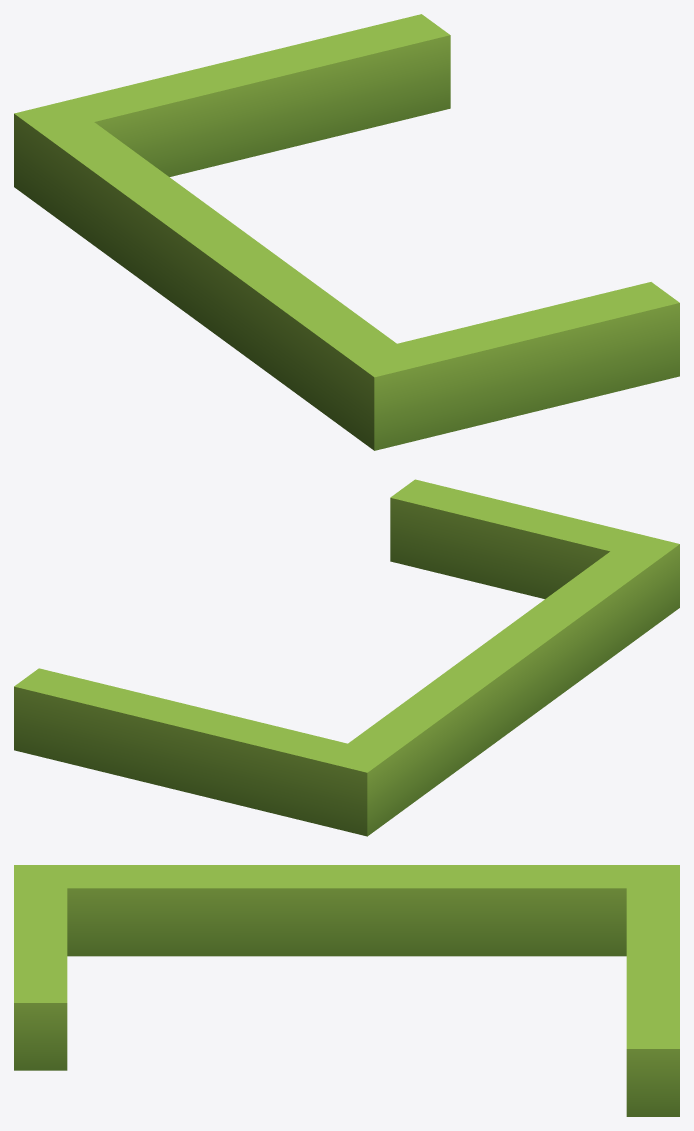
Rendered from grass 14.fbx.
3 renders of one model, top to bottom at view 1: azimuth 30°, elevation 25°; view 2: azimuth 150°, elevation 25°; view 3: azimuth 270°, elevation 25°, orthographic. The views are drawn at different scales.
Visible parts, largest first — view 1: grass_14; view 2: grass_14; view 3: grass_14.
Boxes of the visible parts, x1,y1,x2,y2 form: grass_14: (14,14,679,450); grass_14: (14,479,679,836); grass_14: (14,865,679,1116).
Bounding box in the file's own units: 555 × 95.64 × 850.
1 material, 1 textured.
